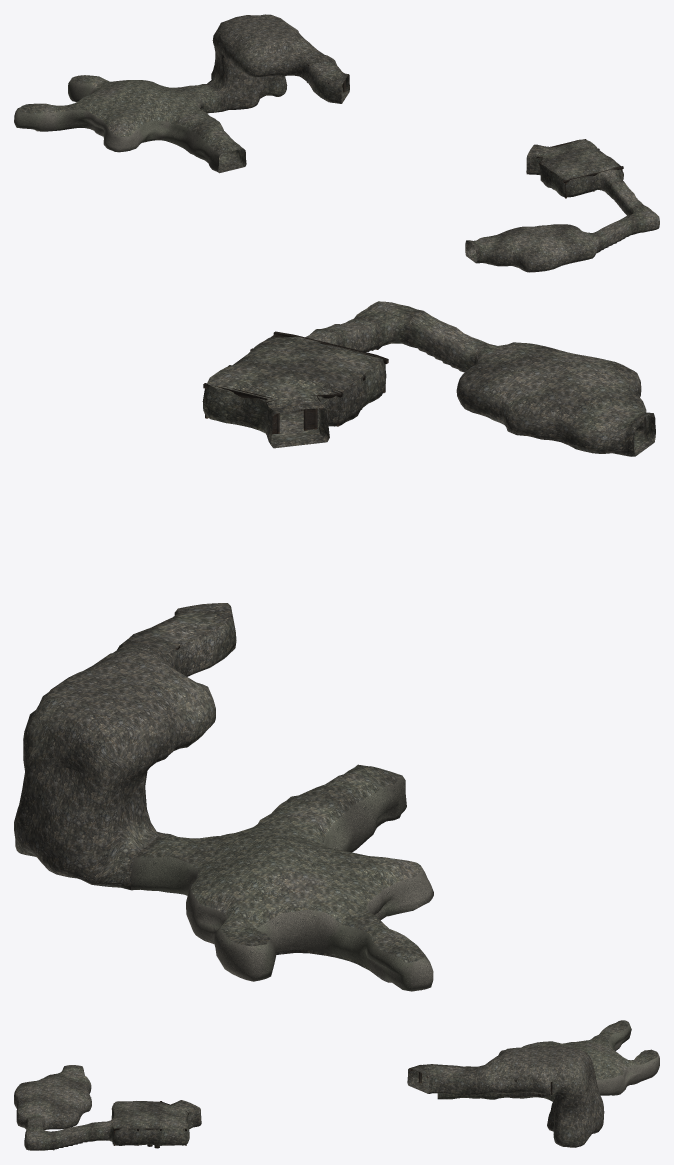
The picture shows the model from 3 angles, top to bottom: view 1: azimuth 30°, elevation 25°; view 2: azimuth 150°, elevation 25°; view 3: azimuth 270°, elevation 25°; orthographic projection. The views are drawn at different scales.
Parts seen in each view (by area): view 1: Chunk-9_Mesh-0, Chunk-10_Mesh-0, Chunk-27_Mesh-0, Chunk-24_Mesh-0, Chunk-29_Mesh-0, Chunk-12_Mesh-0, Chunk-25_Mesh-0, Chunk-28_Mesh-0, Chunk-6_Mesh-0, Chunk-14_Mesh-0, Chunk-36_Mesh-0, Chunk-37_Mesh-0 (+3 smaller); view 2: Chunk-9_Mesh-0, Chunk-27_Mesh-0, Chunk-10_Mesh-0, Chunk-29_Mesh-0, Chunk-24_Mesh-0, Chunk-12_Mesh-0, Chunk-6_Mesh-0, Chunk-25_Mesh-0, Chunk-14_Mesh-0, Chunk-28_Mesh-0, Chunk-36_Mesh-0, Chunk-37_Mesh-0 (+2 smaller); view 3: Chunk-27_Mesh-0, Chunk-24_Mesh-0, Chunk-29_Mesh-0, Chunk-12_Mesh-0, Chunk-9_Mesh-0, Chunk-28_Mesh-0, Chunk-14_Mesh-0, Chunk-6_Mesh-0, Chunk-10_Mesh-0, Chunk-25_Mesh-0, Chunk-17_Mesh-0, Chunk-19_Mesh-0 (+3 smaller).
Boxes of the visible parts, x1,y1,x2,y2 form: Chunk-9_Mesh-0: (17,75,221,136); Chunk-10_Mesh-0: (14,75,182,151); Chunk-27_Mesh-0: (214,14,325,63); Chunk-24_Mesh-0: (469,224,599,258); Chunk-29_Mesh-0: (207,47,287,110); Chunk-12_Mesh-0: (530,139,622,184); Chunk-25_Mesh-0: (467,237,600,272); Chunk-28_Mesh-0: (212,31,301,77); Chunk-6_Mesh-0: (301,55,349,103); Chunk-14_Mesh-0: (529,156,623,197); Chunk-36_Mesh-0: (180,115,243,154); Chunk-37_Mesh-0: (173,123,220,172); Chunk-9_Mesh-0: (135,811,424,963); Chunk-27_Mesh-0: (29,642,208,783); Chunk-10_Mesh-0: (131,827,433,991); Chunk-29_Mesh-0: (14,752,162,884); Chunk-24_Mesh-0: (460,342,648,431); Chunk-12_Mesh-0: (207,329,382,410); Chunk-6_Mesh-0: (121,603,236,676); Chunk-25_Mesh-0: (456,344,651,456); Chunk-14_Mesh-0: (202,329,386,440); Chunk-28_Mesh-0: (23,643,215,784); Chunk-36_Mesh-0: (271,764,402,830); Chunk-37_Mesh-0: (325,776,406,851); Chunk-27_Mesh-0: (476,1046,594,1091); Chunk-24_Mesh-0: (15,1066,89,1118); Chunk-29_Mesh-0: (547,1070,604,1147); Chunk-12_Mesh-0: (92,1100,197,1129); Chunk-9_Mesh-0: (522,1020,658,1079); Chunk-28_Mesh-0: (476,1051,586,1098); Chunk-14_Mesh-0: (92,1106,199,1145); Chunk-6_Mesh-0: (407,1064,475,1095); Chunk-10_Mesh-0: (568,1021,659,1095); Chunk-25_Mesh-0: (14,1068,91,1130); Chunk-17_Mesh-0: (54,1125,92,1149); Chunk-19_Mesh-0: (24,1127,53,1150).
Bounding box in the file's own units: 8100 × 1865 × 13476.
Materials: 15 (15 with a texture image).
